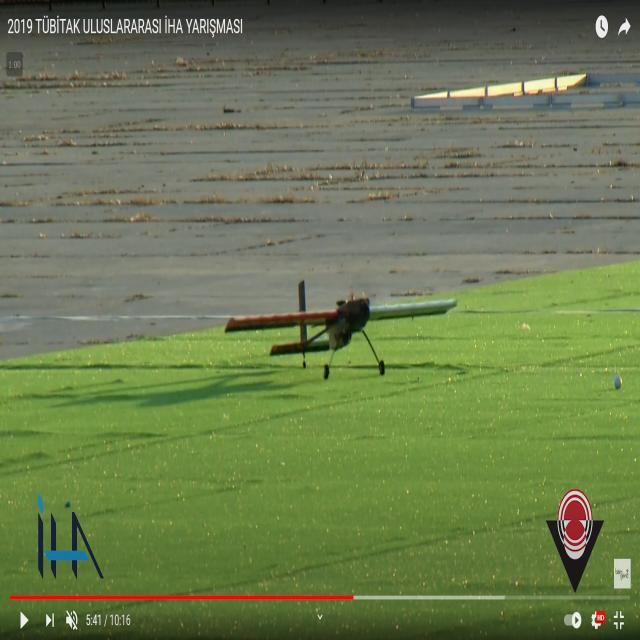iha: (221, 304, 457, 345)
